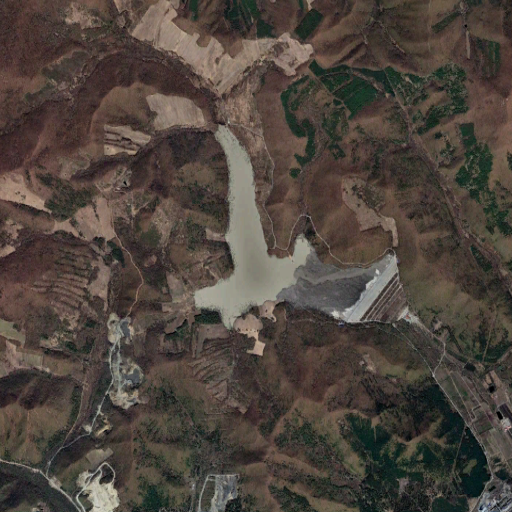tp: (182, 123, 411, 333)
